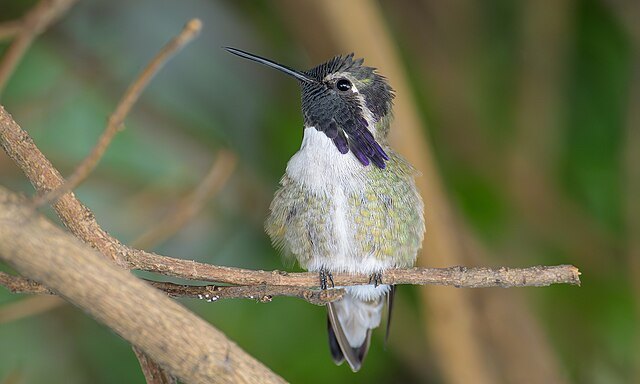calypte costae: (217, 42, 426, 371)
